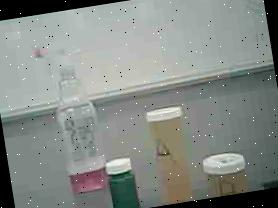Bottle A: (140, 96, 197, 206)
Bottle B: (192, 140, 255, 200)
Bottle C: (101, 154, 140, 208)
hazard: (27, 31, 114, 200)
